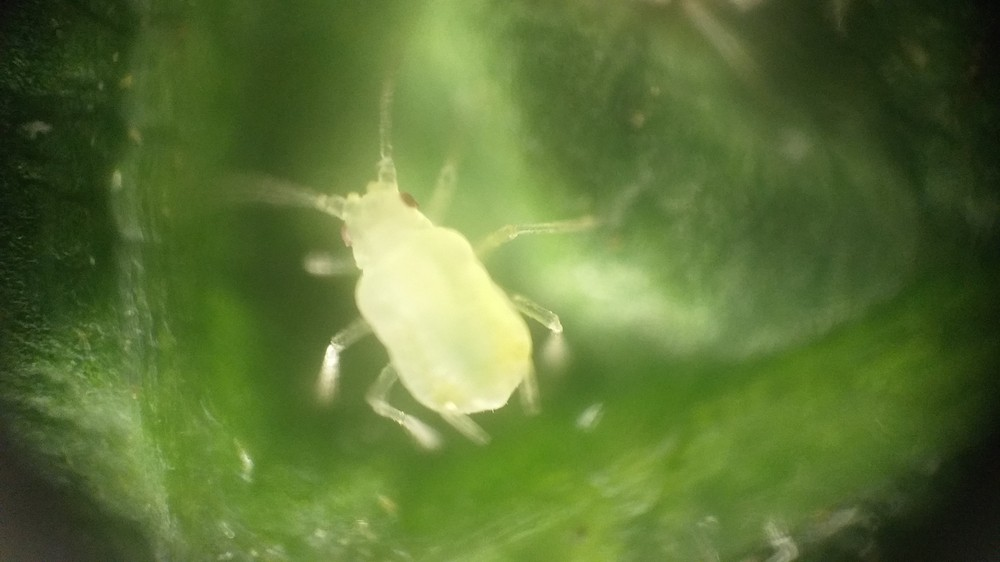Pulgon: (186, 87, 698, 487)
